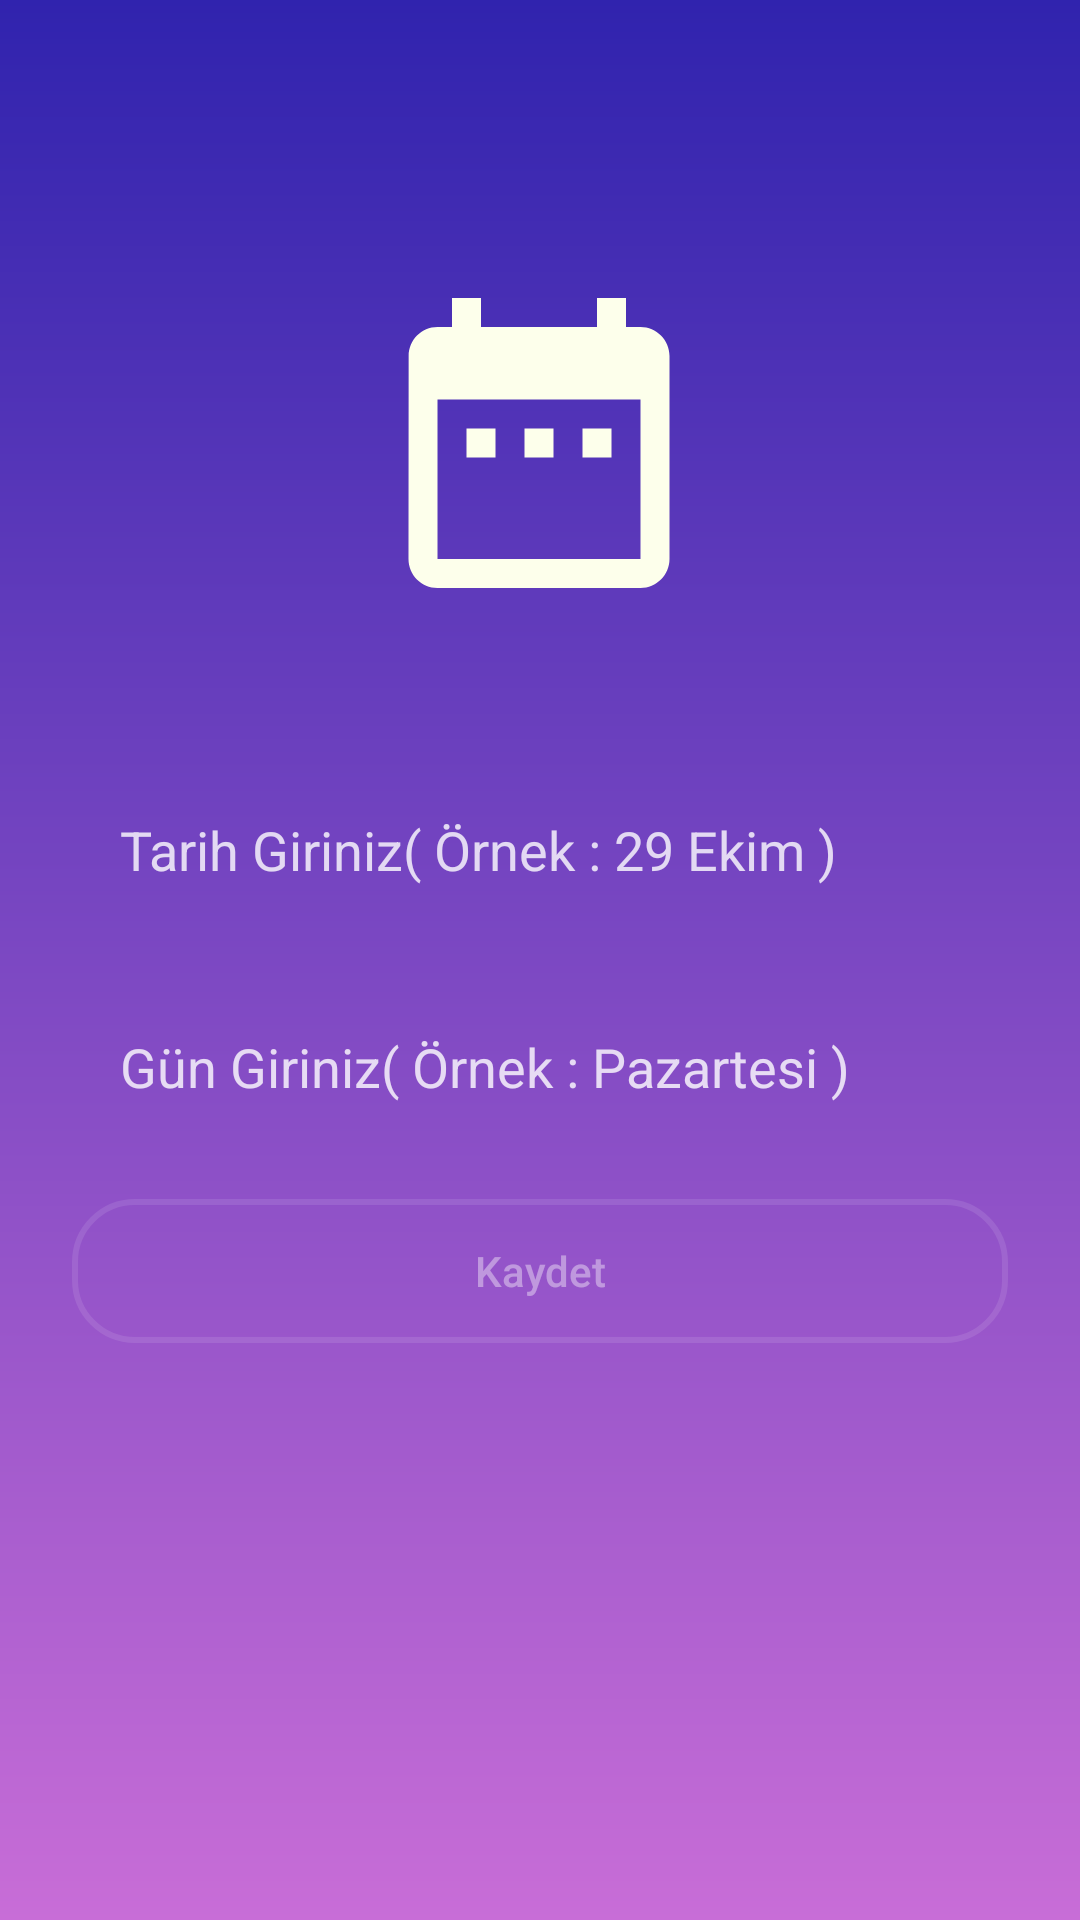

Icons on this 1080 x 1920 Android screen, each with its box as bbox(x1, y1, x2, y2):
date: bbox(365, 298, 713, 645)
